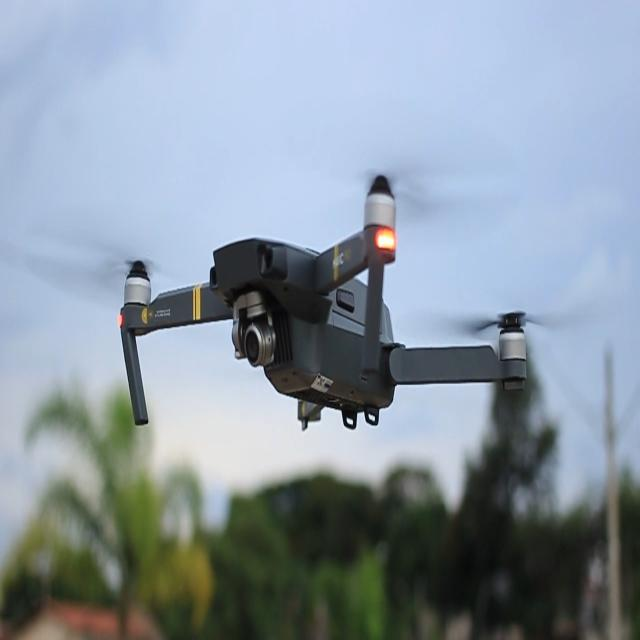drone: (12, 168, 593, 432)
